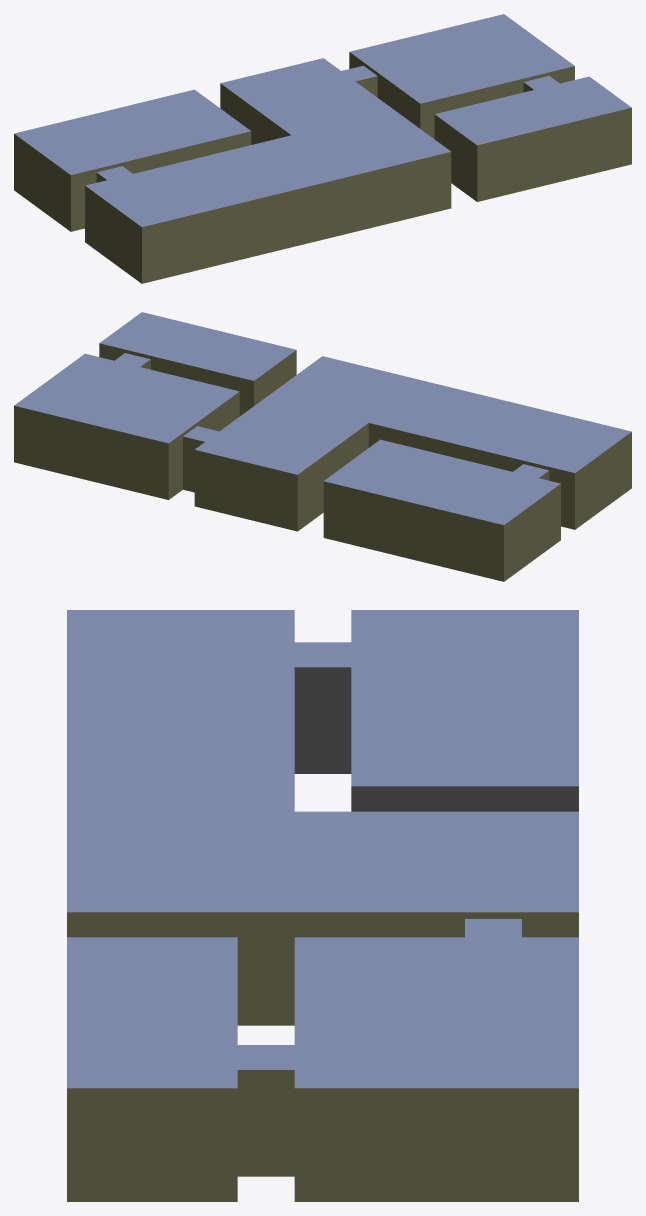
Rendered from Room1.fbx.
3 renders of one model, top to bottom at view 1: azimuth 30°, elevation 25°; view 2: azimuth 150°, elevation 25°; view 3: azimuth 270°, elevation 25°, orthographic. The views are drawn at different scales.
Visible parts, largest first — view 1: Room; view 2: Room; view 3: Room.
Part boxes in pixels (left/top/right/bottom): Room: left=14, top=14, right=631, bottom=283; Room: left=14, top=312, right=631, bottom=581; Room: left=67, top=610, right=578, bottom=1201.
Bounding box in the file's own units: 3619 × 400 × 1636.
